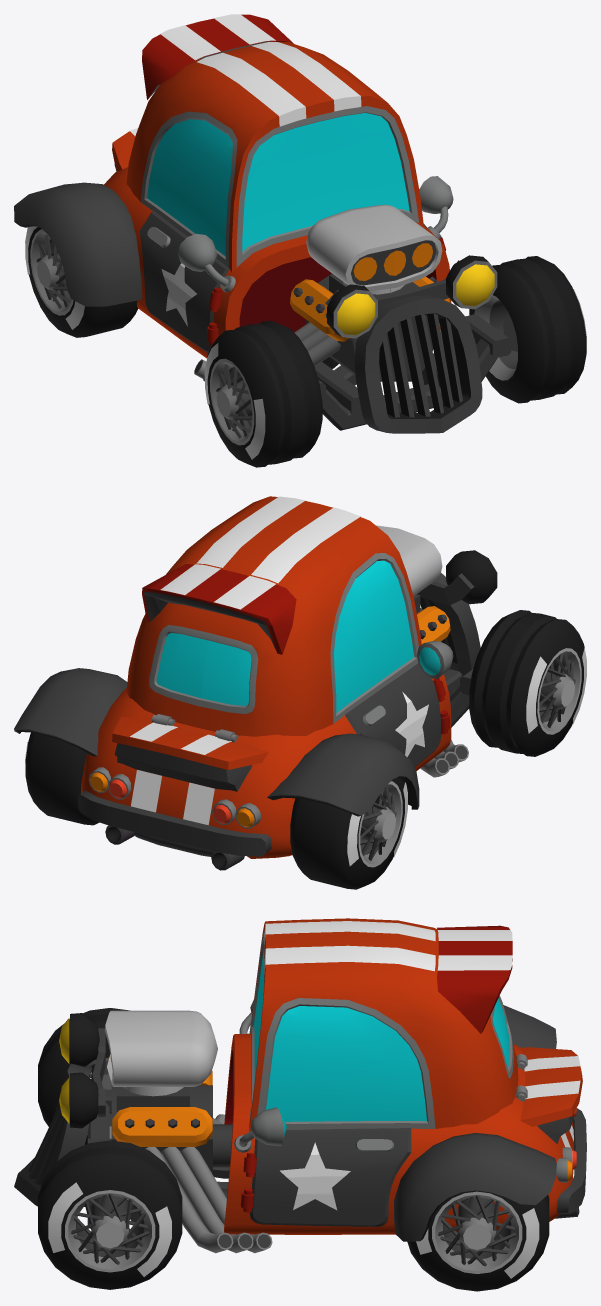
Rendered from VEH1-D.fbx.
The picture shows the model from 3 angles, top to bottom: view 1: azimuth 30°, elevation 25°; view 2: azimuth 150°, elevation 25°; view 3: azimuth 270°, elevation 25°; orthographic projection. The views are drawn at different scales.
Visible parts, largest first — view 1: VEH1_D, V1D_Wheel_FR, V1D_Wheel_FL, V1D_Wheel_BR; view 2: VEH1_D, V1D_Wheel_FR, V1D_Wheel_BR, V1D_Wheel_BL; view 3: VEH1_D, V1D_Wheel_FL, V1D_Wheel_BL, V1D_Wheel_FR.
Part boxes in pixels (x1,y1,x2,y2): VEH1_D: (14,14,511,433); V1D_Wheel_FR: (204,320,322,467); V1D_Wheel_FL: (469,256,586,403); V1D_Wheel_BR: (25,226,138,337); VEH1_D: (14,496,497,870); V1D_Wheel_FR: (469,610,586,756); V1D_Wheel_BR: (290,778,407,889); V1D_Wheel_BL: (25,732,99,825); VEH1_D: (14,918,586,1253); V1D_Wheel_FL: (38,1140,182,1289); V1D_Wheel_BL: (407,1191,549,1291); V1D_Wheel_FR: (38,1008,129,1144).
Size of the model in its own units: 256 by 190 by 354.
1 material, 1 textured.
